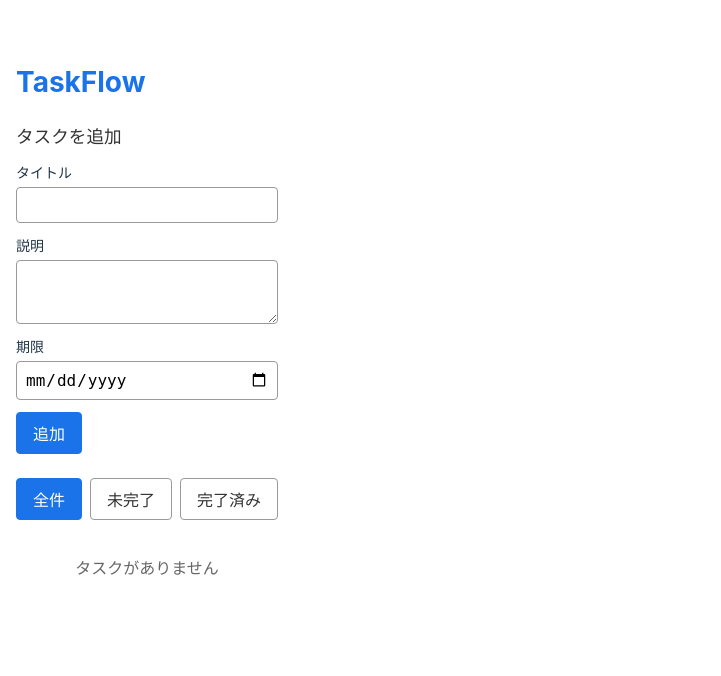
Test: App 書き込みエラー › 保存失敗時にバナーを表示しつつ TaskList（メモリ上のタスク）は維持する
expect the text "タスクがありません" is shown: met, box [75, 558, 219, 578]
Type "保存に失敗するタスク" into the field labelled "タイトル".
click(147, 205); type("保存に失敗するタスク")  # box [16, 187, 278, 223]
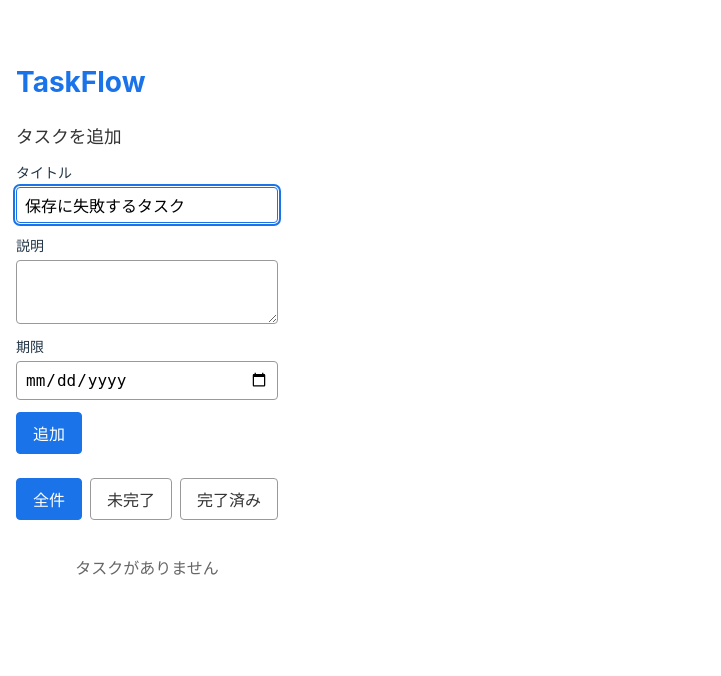
Click the button "追加".
click(49, 433)  # box [16, 412, 82, 454]
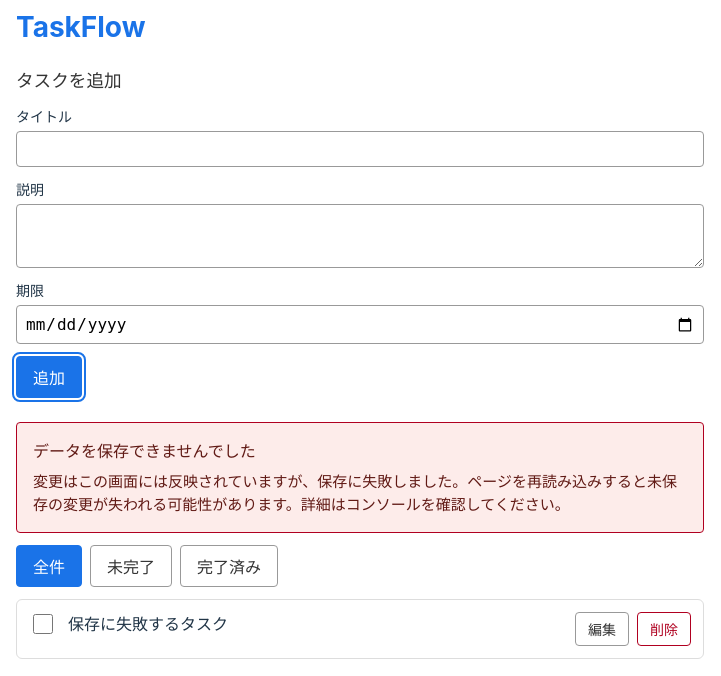
expect the element named "タスクのフィルター" is shown: met, box [16, 546, 278, 588]
expect the text "データを保存できませんでした" is shown: met, box [33, 442, 256, 462]
expect the text "保存に失敗するタスク" is shown: met, box [68, 614, 228, 634]
